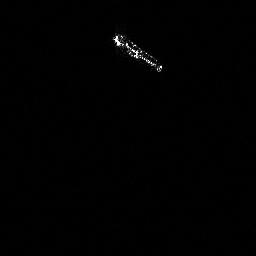ship: (107, 27, 167, 76)
